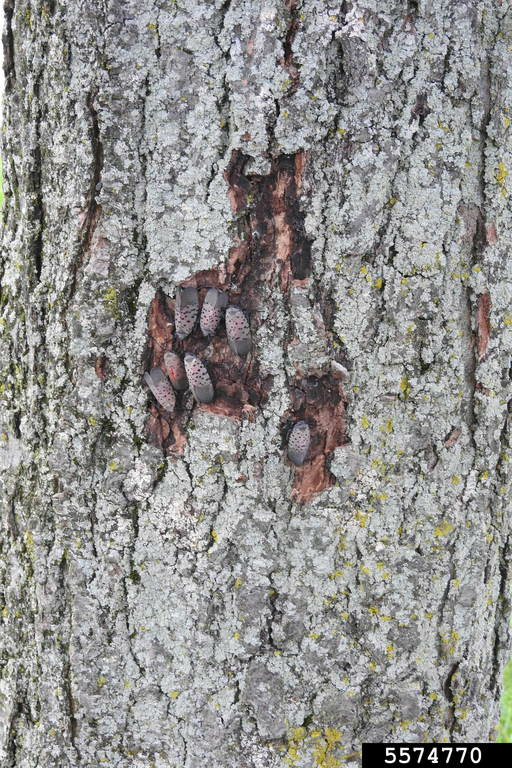adult: (280, 415, 317, 462), (226, 304, 257, 359), (135, 374, 178, 413), (183, 360, 223, 400), (157, 345, 186, 394), (173, 282, 197, 337), (203, 283, 220, 337)
